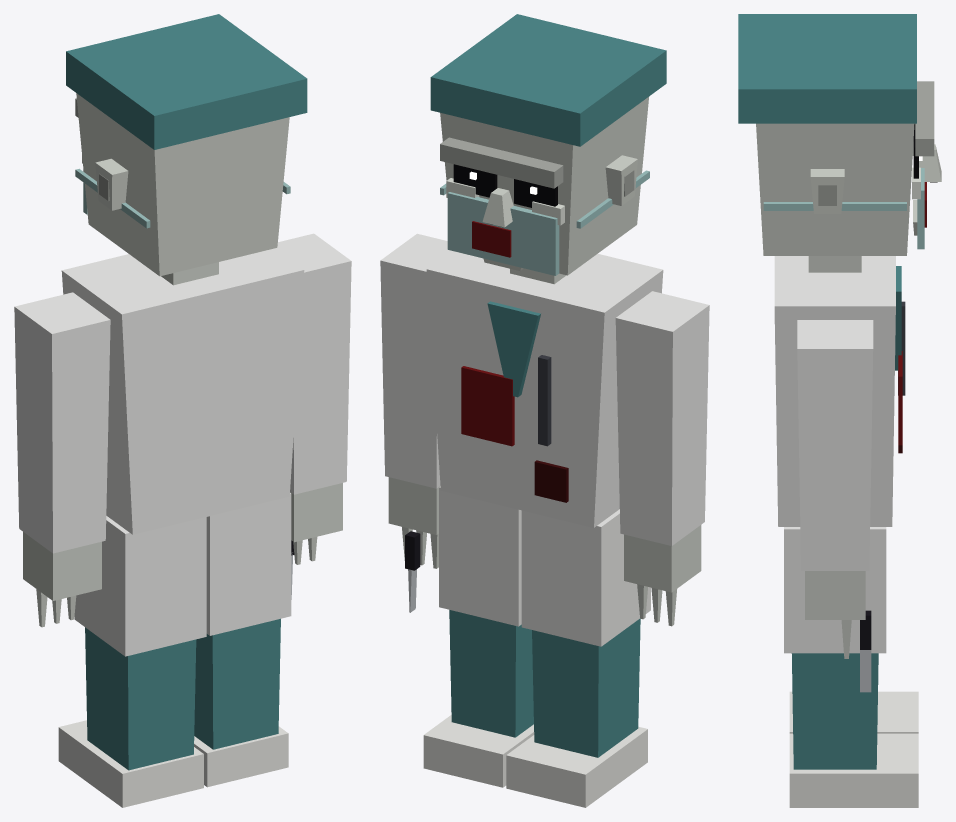
The model's file is doctor_night.glb.
The picture shows the model from 3 angles, left to right: view 1: azimuth 30°, elevation 25°; view 2: azimuth 150°, elevation 25°; view 3: azimuth 270°, elevation 25°; orthographic projection. The views are drawn at different scales.
Visible parts, largest first — view 1: Torso, Head, LegL, ArmL, LegR, ArmR, NeckMesh; view 2: Torso, Head, LegL, ArmL, LegR, ArmR; view 3: Head, ArmR, LegR, Torso, LegL, NeckMesh.
Part boxes in pixels (box(x1,y1,x2,y2)): Torso: box(61, 248, 304, 534); Head: box(66, 14, 307, 276); LegL: box(58, 516, 206, 807); ArmL: box(14, 292, 110, 627); LegR: box(194, 492, 291, 787); ArmR: box(275, 233, 351, 599); NeckMesh: box(161, 262, 218, 285); Torso: box(426, 251, 663, 527); Head: box(430, 14, 666, 275); LegL: box(506, 509, 650, 807); ArmL: box(615, 291, 709, 626); LegR: box(423, 486, 534, 787); ArmR: box(380, 233, 451, 612); Head: box(738, 14, 941, 255); ArmR: box(797, 320, 873, 692); LegR: box(784, 527, 918, 807); Torso: box(774, 256, 905, 526); LegL: box(789, 691, 918, 733); NeckMesh: box(808, 256, 861, 272).
Size of the model in its own units: 0.92 by 2.08 by 0.535.
